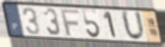1: (103, 11, 118, 40)
3: (42, 7, 62, 38), (22, 7, 40, 35)
5: (81, 8, 102, 40)
F: (59, 8, 81, 37)
U: (120, 10, 147, 43)
